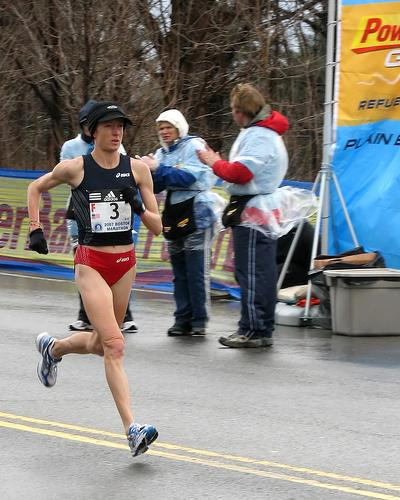person: (28, 102, 163, 457)
